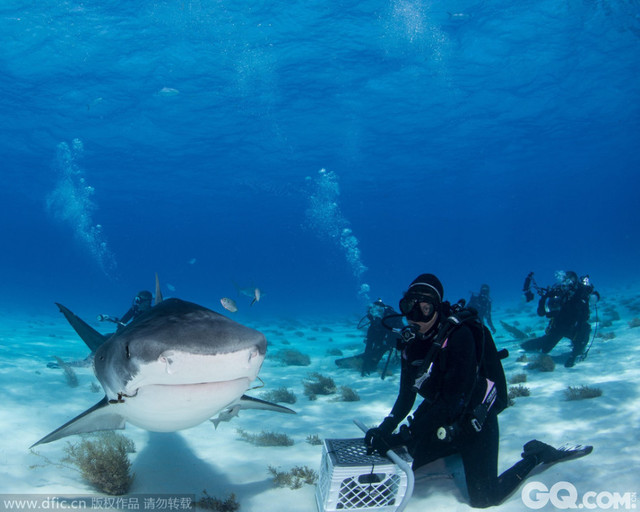shark: (29, 287, 311, 468)
